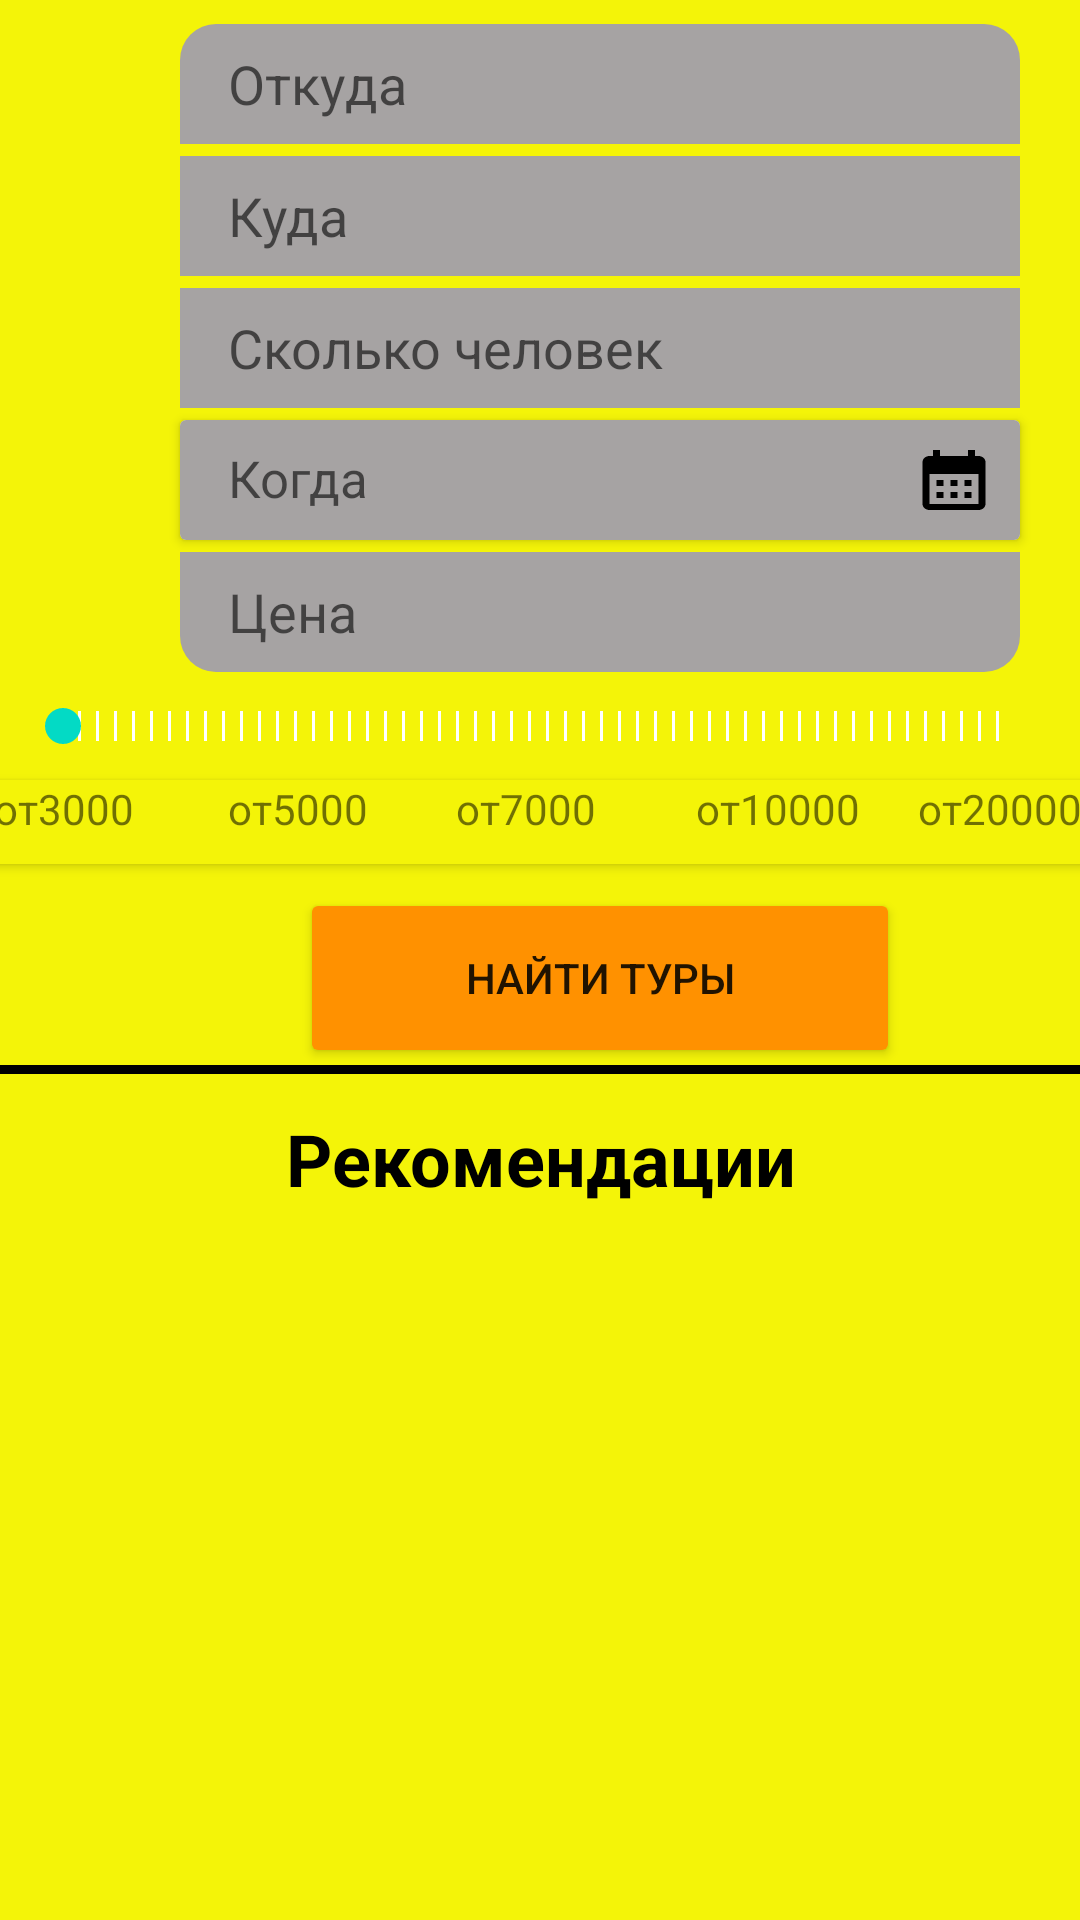

Icons on this 1080px×1920px Android screen, each with its box as box=[x1, y1, x2, y2]:
calendar: box=[922, 450, 986, 510]
